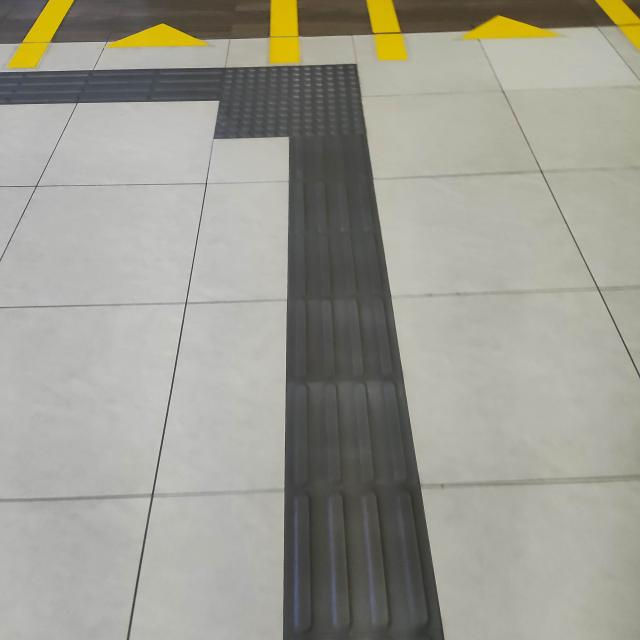kiri: (127, 37, 416, 188)
